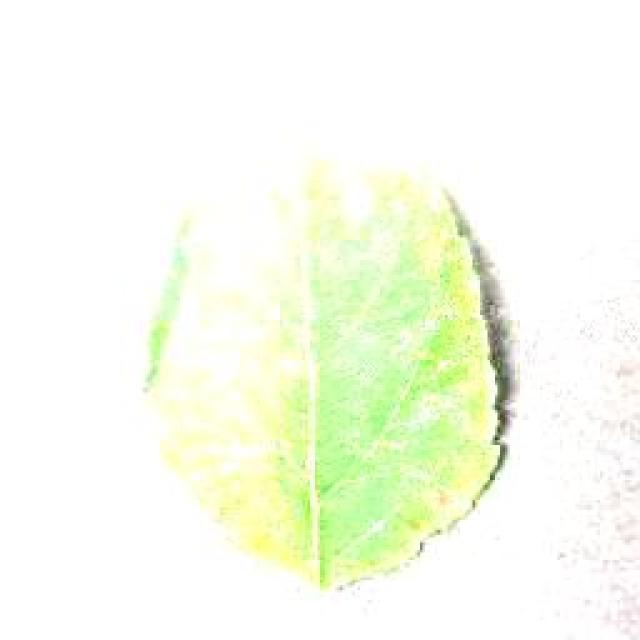apple healthy: (140, 152, 520, 592)
